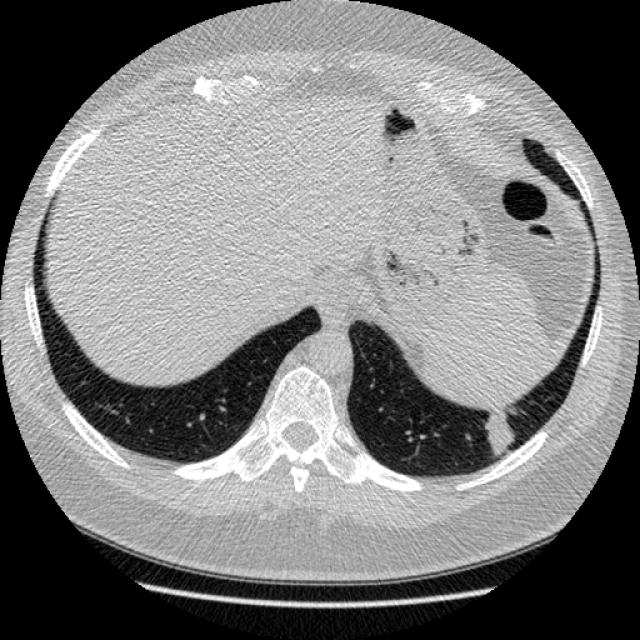nodule: (461, 392, 539, 470)
